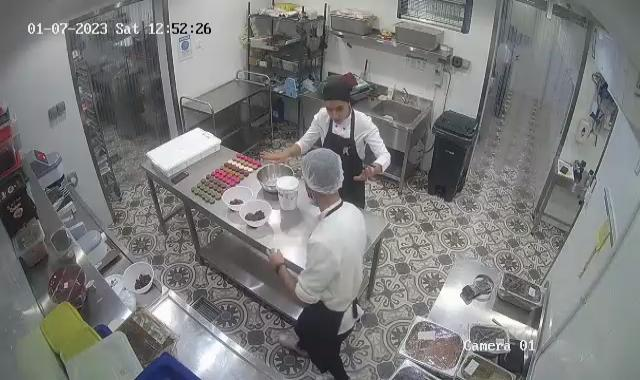hairnet: (302, 146, 346, 199)
no_hairnet: (322, 81, 352, 111)
